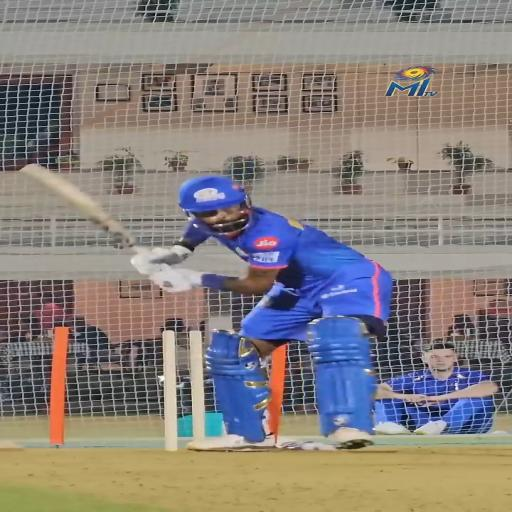Cricket bat: (19, 164, 144, 253)
